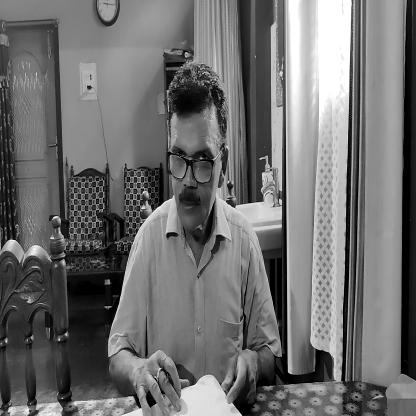Normal: (164, 59, 224, 238)
